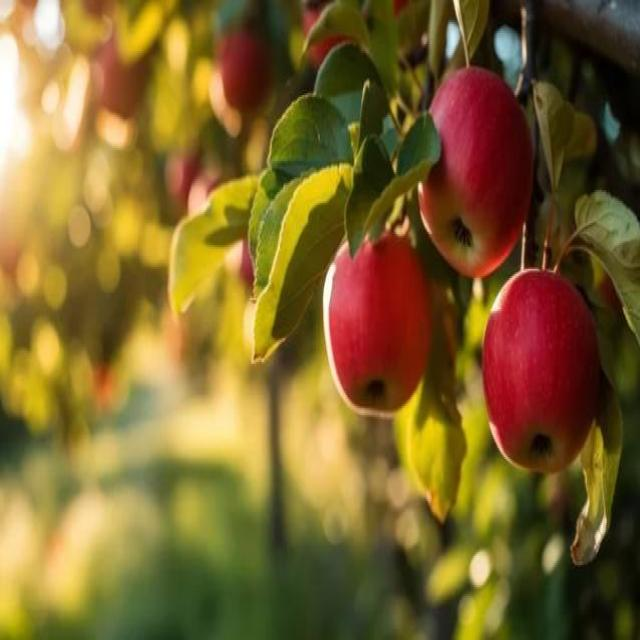fruit: (481, 268, 601, 472), (419, 65, 534, 276), (325, 230, 433, 413), (216, 26, 272, 116), (304, 2, 361, 71), (182, 159, 224, 238), (162, 140, 201, 208), (223, 234, 260, 305), (598, 270, 624, 324)
